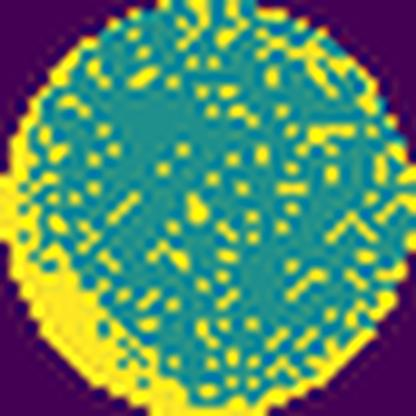Edge-Loc: (0, 33, 378, 416)
